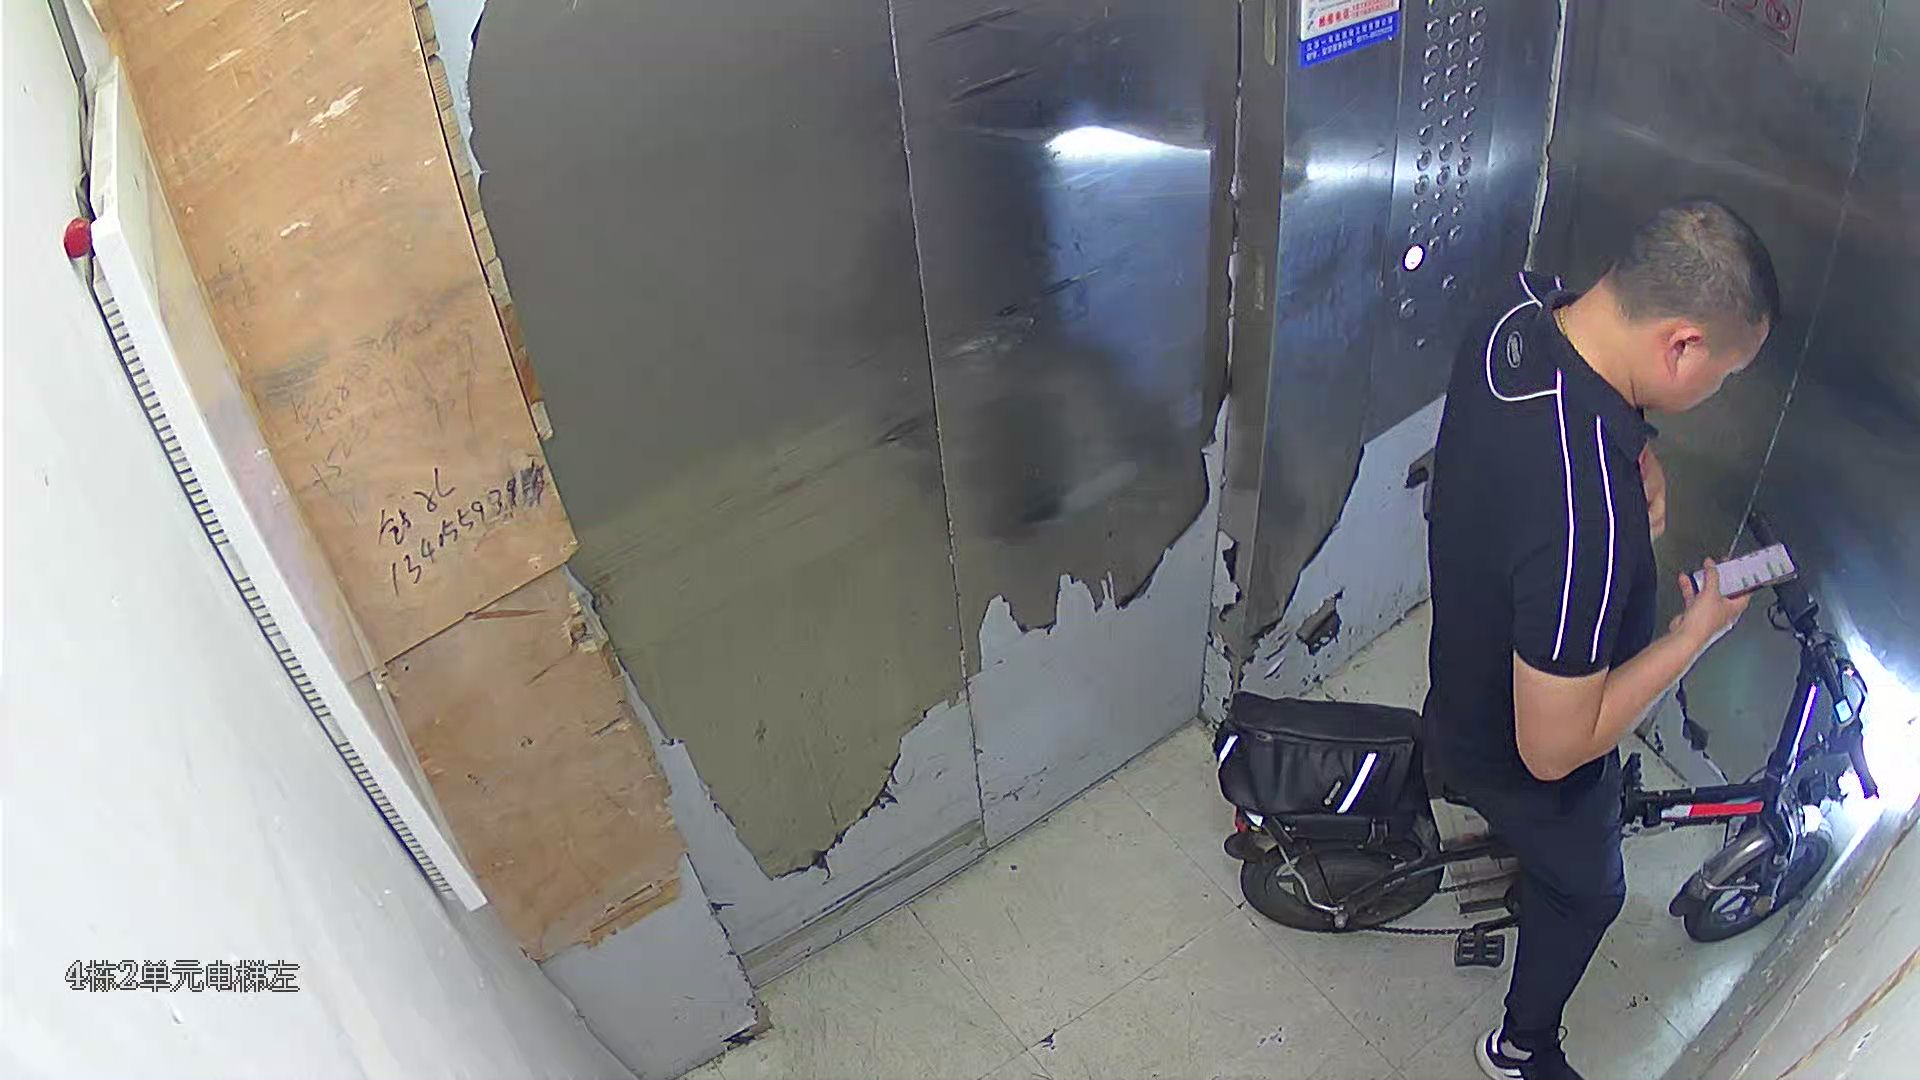Electric-bicycle: (1218, 516, 1880, 938)
